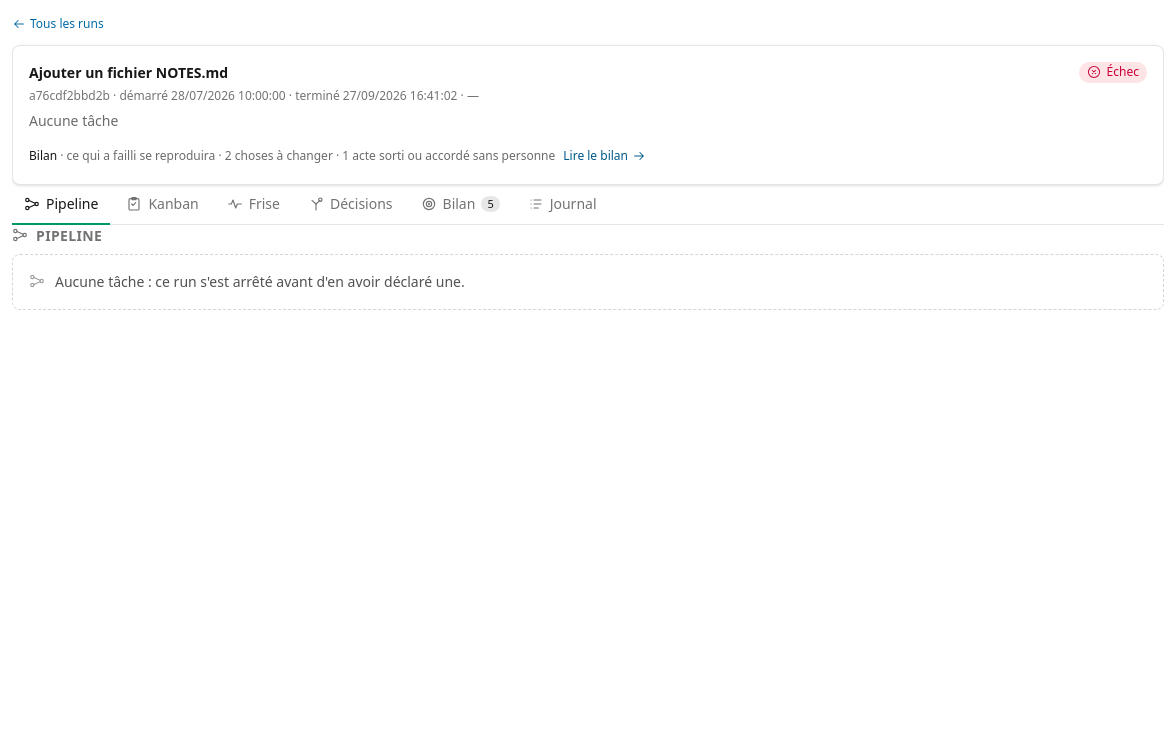
un run en échec › rend les rubriques dans l'ordre de lecture, chacune avec ses constats
What coordinates should you click on to do the following:
click the button "Bilan 5"
I would click on:
 (460, 205)
Its box is [408,185,512,225].
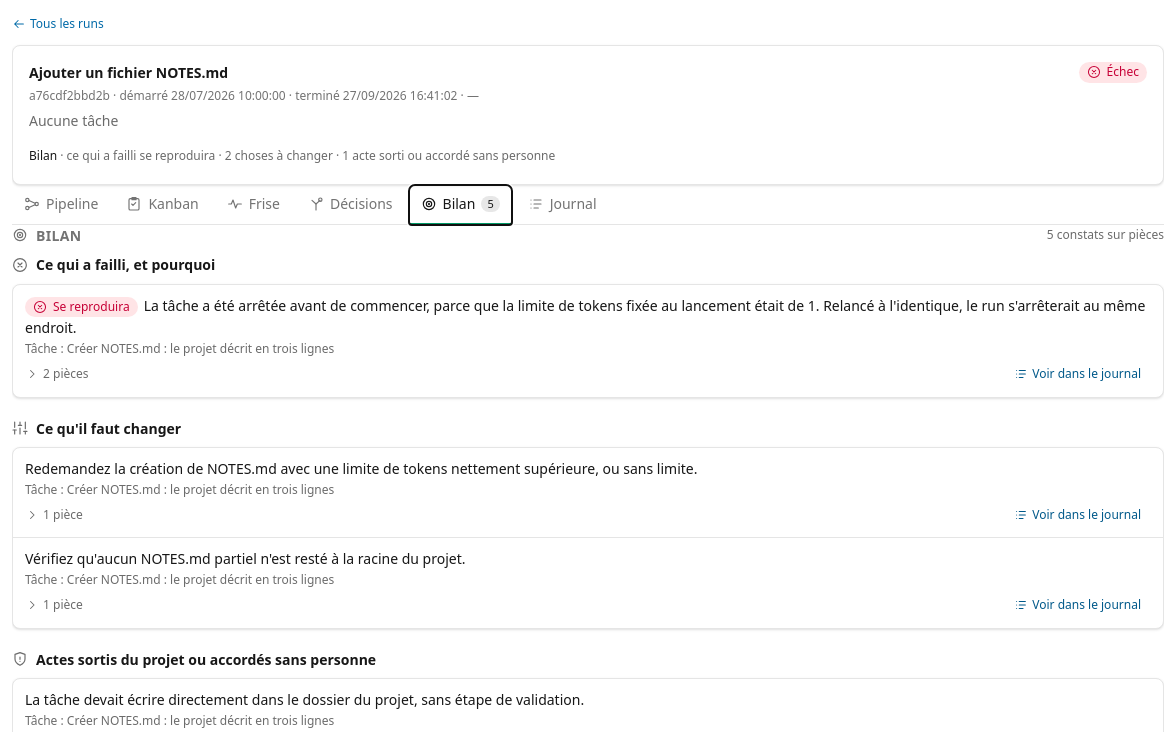
Check: the text "5 constats sur pièces" is shown, box [1047,227,1164,244]
